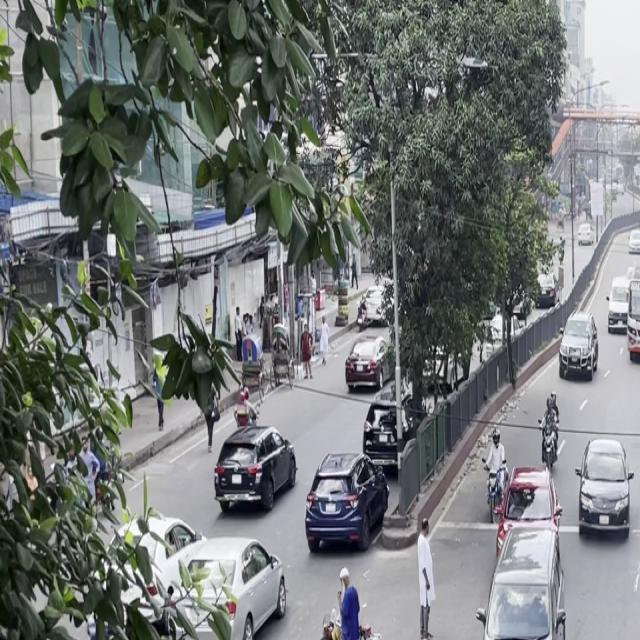bicycle: (305, 576, 399, 640)
car: (150, 535, 294, 640), (471, 510, 571, 640), (299, 445, 393, 554), (207, 422, 304, 520), (573, 432, 637, 546), (358, 393, 407, 465), (556, 311, 600, 387), (603, 279, 630, 339), (624, 298, 640, 368)
motorbike: (479, 428, 511, 525), (535, 392, 564, 469)
